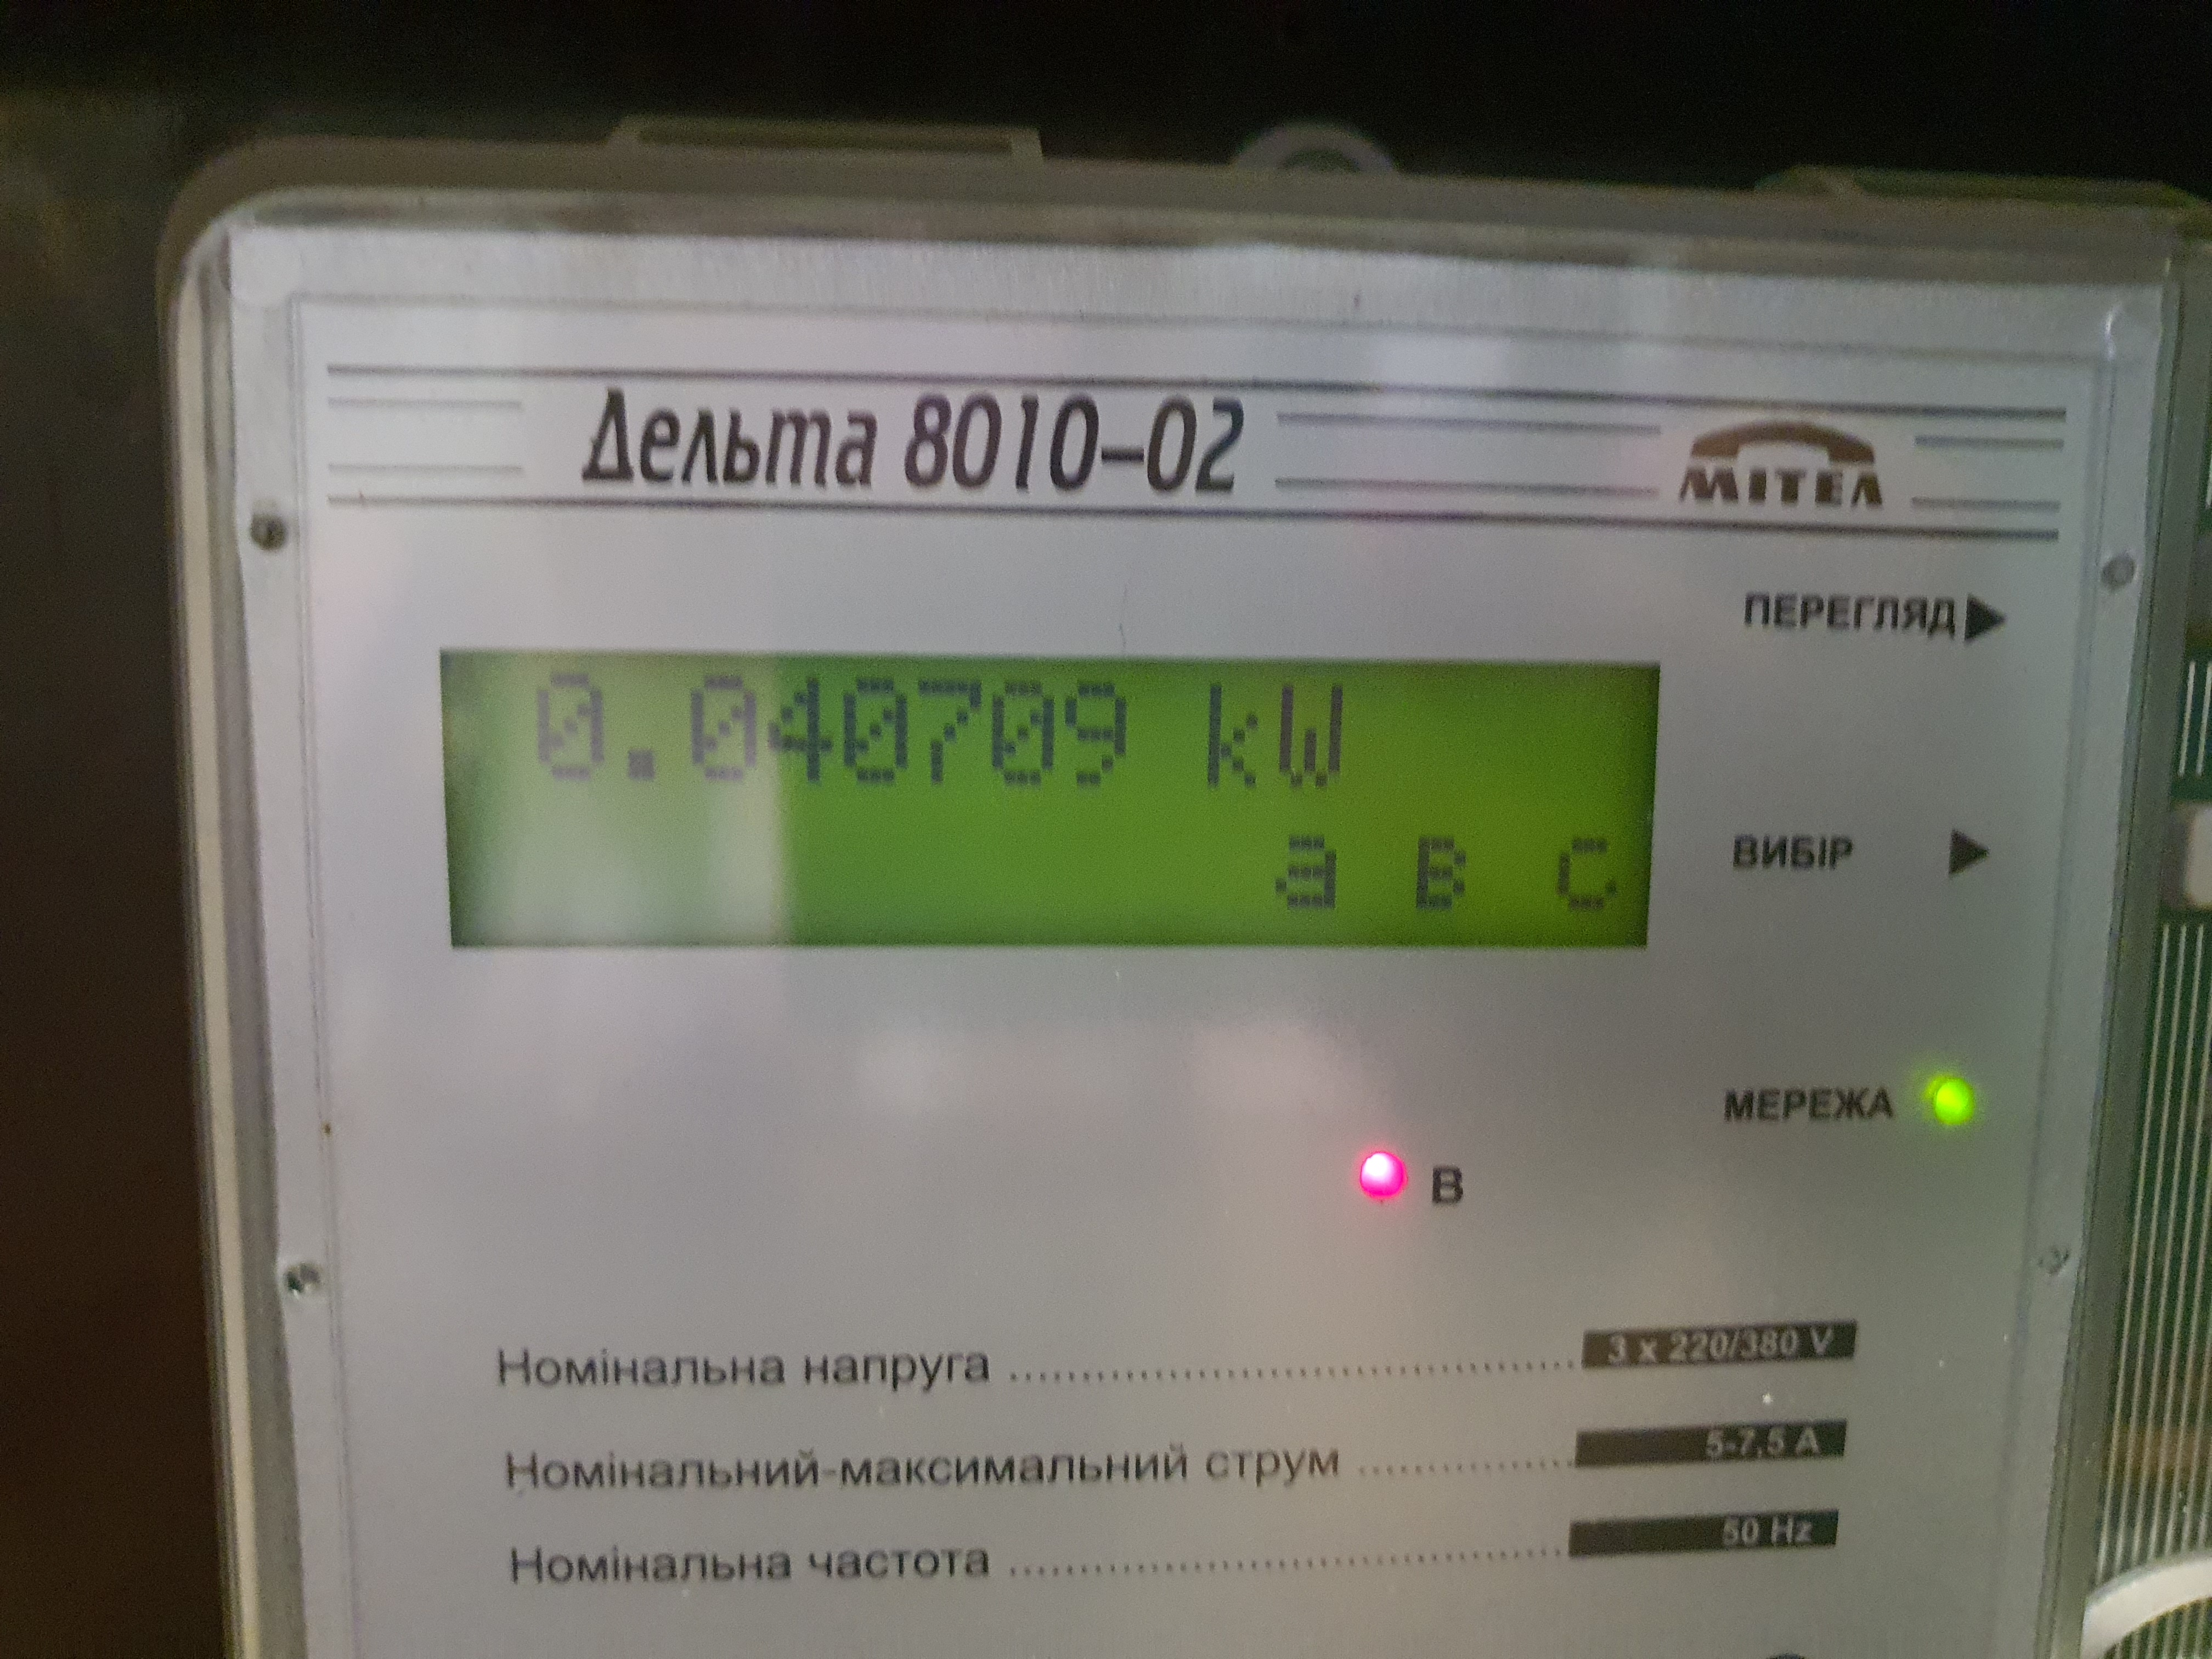screen: (402, 605, 1714, 1007)
